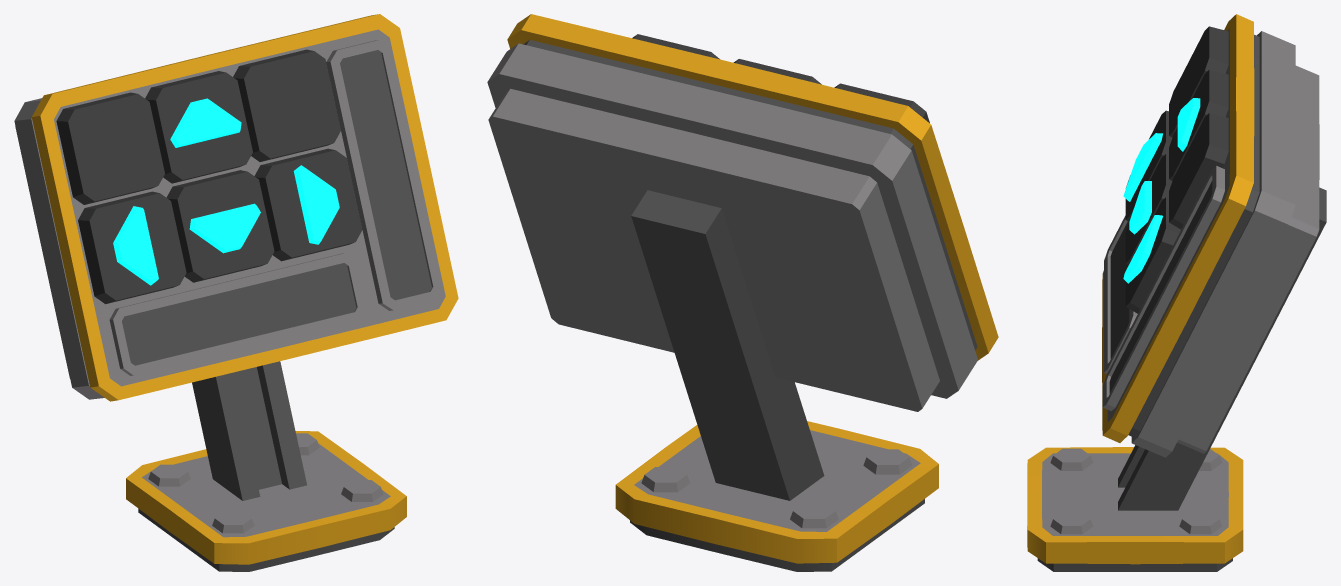
The model's file is CommandPannel_01.fbx.
3 views of the same model, side by side, from view 1: azimuth 30°, elevation 25°; view 2: azimuth 150°, elevation 25°; view 3: azimuth 270°, elevation 25° (orthographic). The views are drawn at different scales.
Visible parts, largest first — view 1: CommandPannel, Button_Right, Button_Right_Alth, Button_Up, Button_Dwn, Button_Left, Button_Left_Alt; view 2: CommandPannel, Button_Right_Alth; view 3: CommandPannel, Button_Left_Alt, Button_Left, Button_Up, Button_Right_Alth, Button_Dwn, Button_Right.
Part boxes in pixels (left/top/right/bottom): CommandPannel: left=14, top=14, right=458, bottom=571; Button_Right: left=78, top=191, right=186, bottom=304; Button_Right_Alth: left=56, top=92, right=164, bottom=204; Button_Up: left=145, top=71, right=252, bottom=183; Button_Dwn: left=166, top=170, right=274, bottom=282; Button_Left: left=254, top=148, right=362, bottom=261; Button_Left_Alt: left=233, top=49, right=340, bottom=161; CommandPannel: left=487, top=14, right=998, bottom=571; Button_Right_Alth: left=834, top=83, right=929, bottom=123; CommandPannel: left=1027, top=14, right=1326, bottom=571; Button_Left_Alt: left=1169, top=113, right=1228, bottom=229; Button_Left: left=1123, top=197, right=1180, bottom=313; Button_Up: left=1169, top=69, right=1228, bottom=180; Button_Right_Alth: left=1169, top=26, right=1228, bottom=137; Button_Dwn: left=1125, top=154, right=1172, bottom=264; Button_Right: left=1123, top=110, right=1172, bottom=221.
Size of the model in its own units: 123 by 140 by 87.6.
